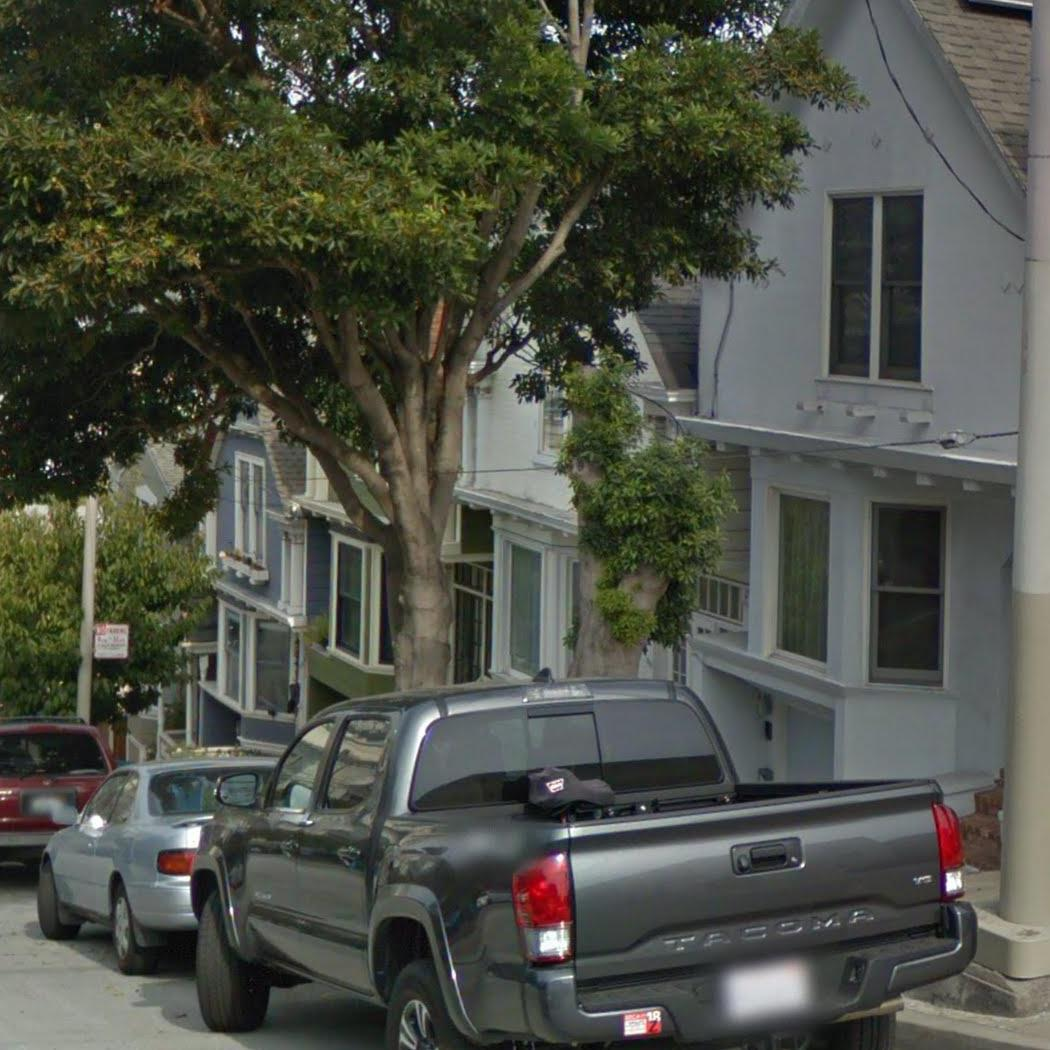No Parking: (93, 621, 131, 663)
